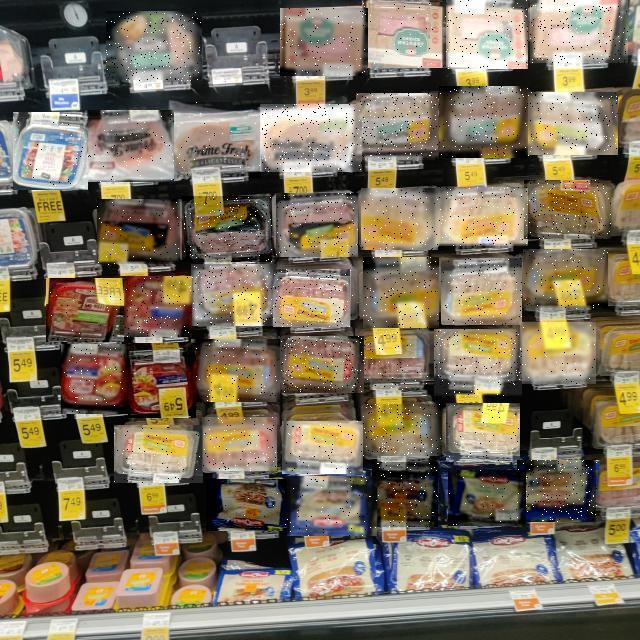Meat: (260, 105, 362, 173), (106, 12, 202, 82), (173, 103, 261, 179), (439, 87, 531, 159), (85, 110, 174, 182), (530, 0, 628, 63), (434, 330, 522, 398), (280, 8, 368, 76), (182, 196, 272, 262), (13, 112, 88, 190), (362, 0, 448, 68), (528, 92, 618, 155), (446, 0, 528, 69), (191, 339, 280, 402), (98, 200, 182, 266), (441, 258, 522, 325), (356, 94, 438, 160), (438, 188, 528, 248), (287, 476, 377, 536), (363, 257, 439, 328), (191, 264, 276, 326), (276, 193, 358, 257), (114, 425, 203, 483), (524, 180, 611, 239), (523, 250, 608, 310), (128, 343, 196, 418), (62, 345, 134, 415), (276, 336, 364, 393), (46, 279, 124, 343), (518, 460, 598, 522), (362, 188, 440, 250), (356, 328, 434, 390), (520, 322, 596, 384), (274, 269, 354, 327), (120, 276, 192, 337), (449, 471, 527, 527), (207, 479, 291, 531), (446, 403, 520, 462), (282, 421, 363, 474), (372, 462, 438, 527), (363, 404, 441, 456), (202, 417, 277, 471)
